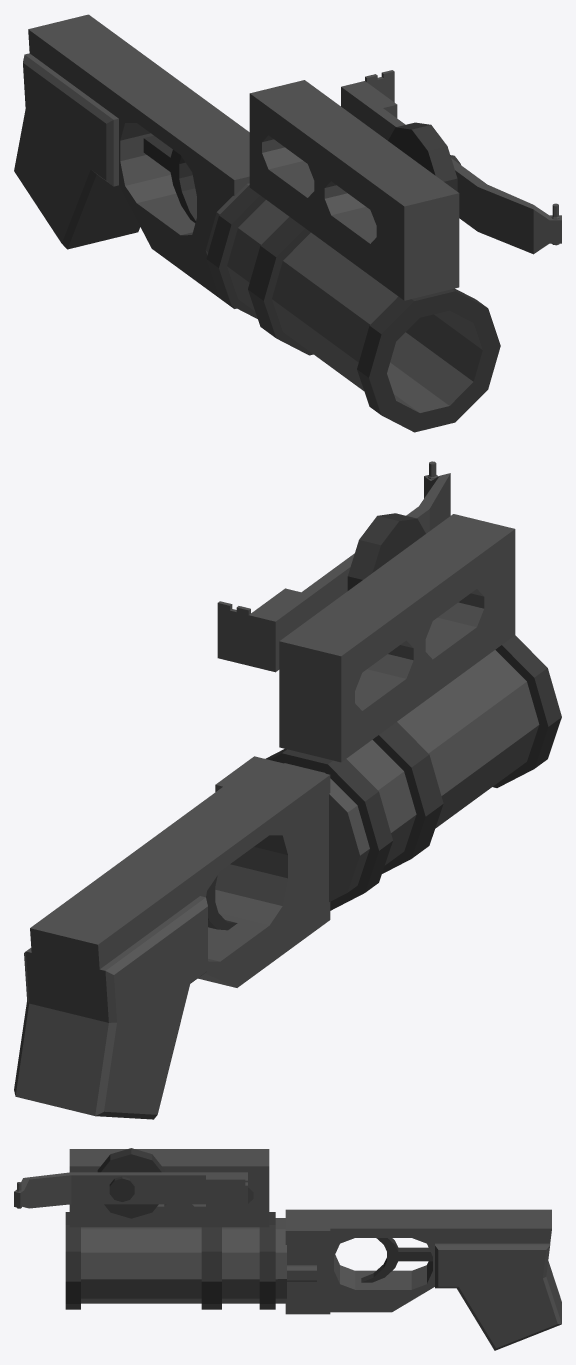
The picture shows the model from 3 angles, top to bottom: view 1: azimuth 30°, elevation 25°; view 2: azimuth 150°, elevation 25°; view 3: azimuth 270°, elevation 25°; orthographic projection. The views are drawn at different scales.
Visible parts, largest first — view 1: GP25; view 2: GP25; view 3: GP25.
Boxes of the visible parts, bbox=[...] form: GP25: bbox=[14, 14, 561, 432]; GP25: bbox=[14, 461, 561, 1119]; GP25: bbox=[14, 1148, 561, 1350].
Bounding box in the file's own units: 89.74 × 162 × 400.
1 material, 1 textured.
